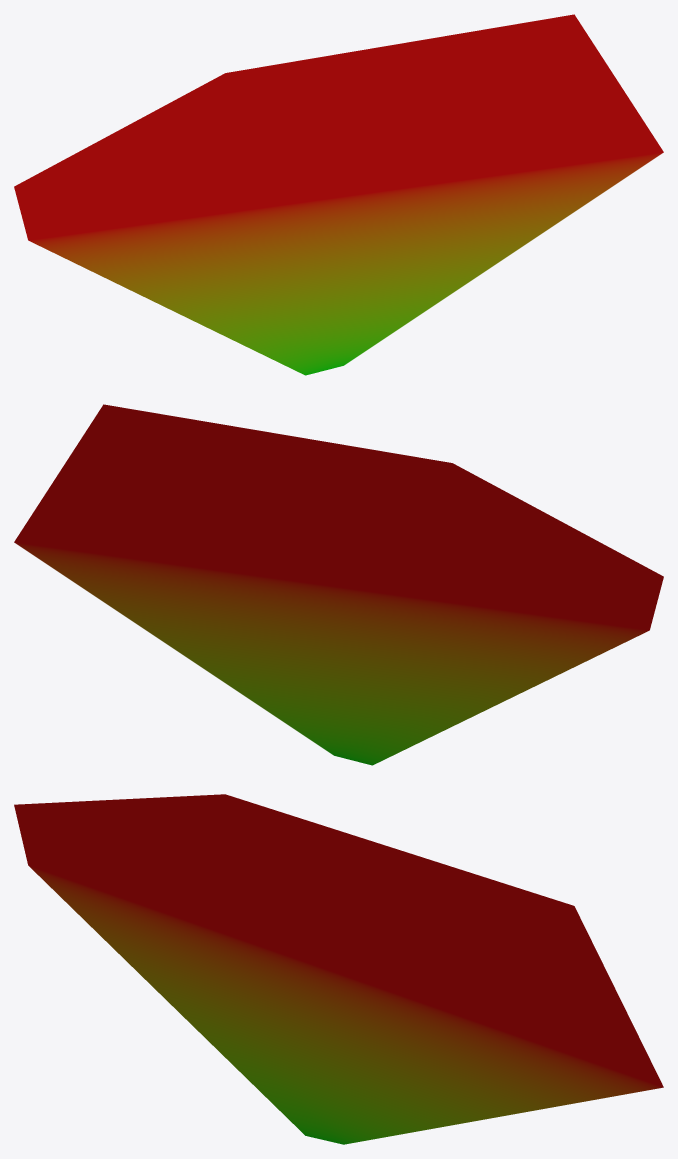
File: Coltsfoot_LOD4_Var6_xbtkdfvqx.fbx
3 views of the same model, one above another, from view 1: azimuth 30°, elevation 25°; view 2: azimuth 150°, elevation 25°; view 3: azimuth 330°, elevation 25° (orthographic).
Parts seen in each view (by area): view 1: _05zr_Var6_LOD4; view 2: _05zr_Var6_LOD4; view 3: _05zr_Var6_LOD4.
Boxes of the visible parts, x1,y1,x2,y2 form: _05zr_Var6_LOD4: (14, 14, 663, 375); _05zr_Var6_LOD4: (14, 404, 663, 765); _05zr_Var6_LOD4: (14, 794, 663, 1144).
Size of the model in its own units: 39.51 by 18.7 by 7.9e-08.
